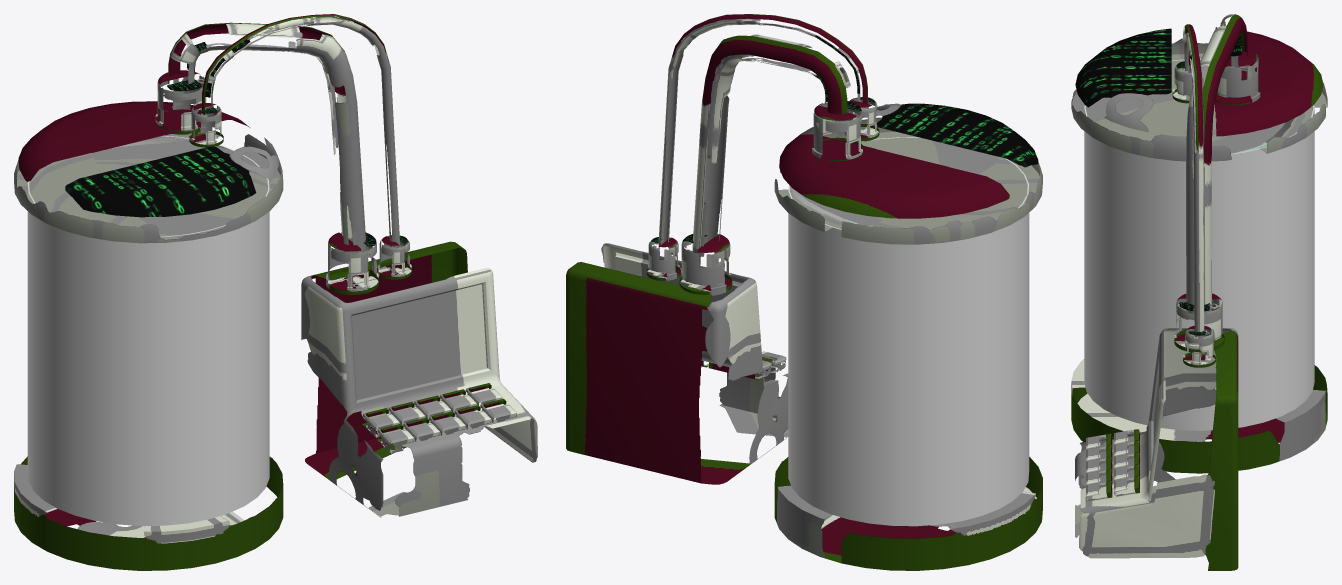
Rendered from turret baby.fbx.
3 views of the same model, side by side, from view 1: azimuth 30°, elevation 25°; view 2: azimuth 150°, elevation 25°; view 3: azimuth 270°, elevation 25° (orthographic). The views are drawn at different scales.
Parts seen in each view (by area): view 1: Cube, Cylinder.001; view 2: Cube, Cylinder.001; view 3: Cube, Cylinder.001.
Part boxes in pixels (<box>): Cube: <box>14,14,537,570</box>; Cylinder.001: <box>27,135,269,525</box>; Cube: <box>566,14,1042,570</box>; Cylinder.001: <box>788,137,1029,526</box>; Cube: <box>1071,14,1327,570</box>; Cylinder.001: <box>1084,59,1314,430</box>.
Bounding box in the file's own units: 380 × 380 × 200.
3 materials, 1 textured.
